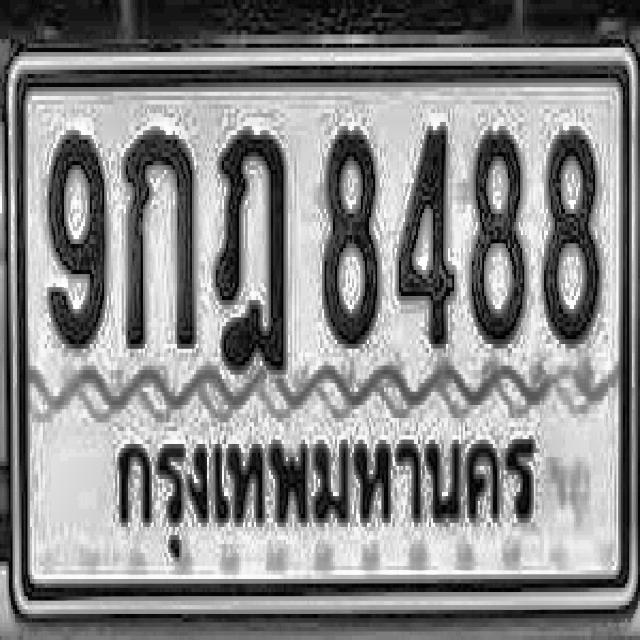license-plate: (0, 41, 640, 640)
